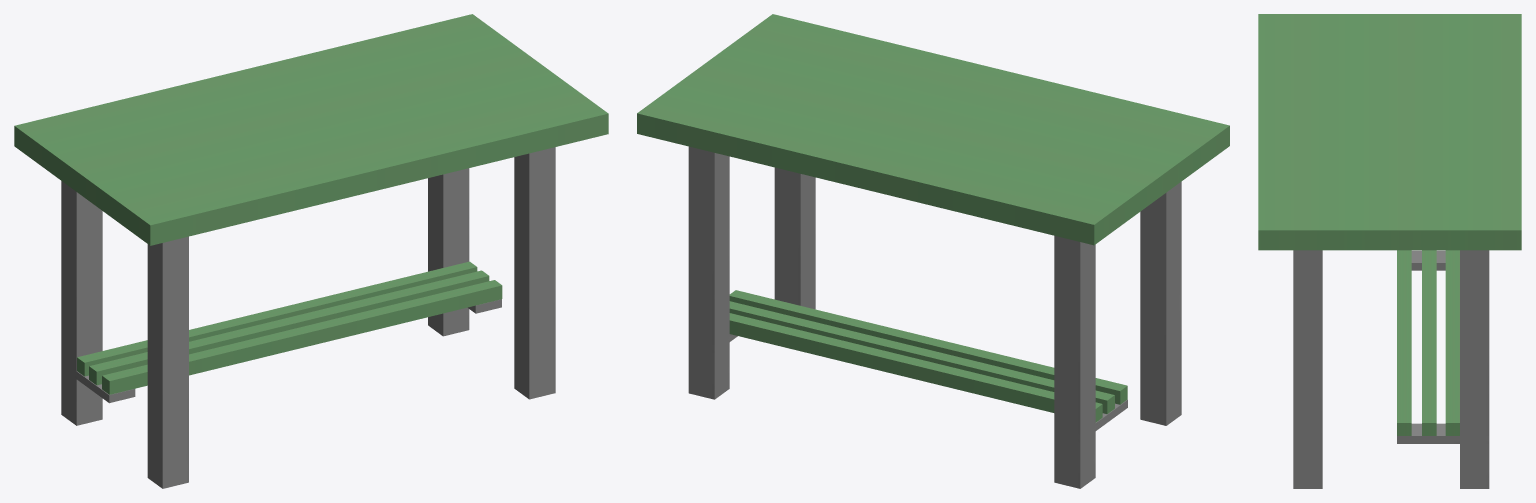
Rendered from bus_stop.fbx.
The picture shows the model from 3 angles, left to right: view 1: azimuth 30°, elevation 25°; view 2: azimuth 150°, elevation 25°; view 3: azimuth 270°, elevation 25°; orthographic projection. The views are drawn at different scales.
Visible parts, largest first — view 1: Cube; view 2: Cube; view 3: Cube.
Part boxes in pixels (x1=…): Cube: x1=14, y1=14, x2=608, y2=488; Cube: x1=637, y1=14, x2=1229, y2=488; Cube: x1=1258, y1=14, x2=1521, y2=488.
Bounding box in the file's own units: 350 × 208 × 180.
